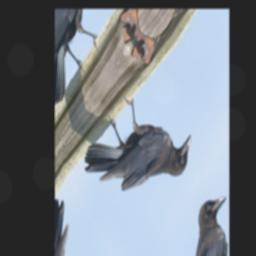Crow: (79, 61, 199, 249)
